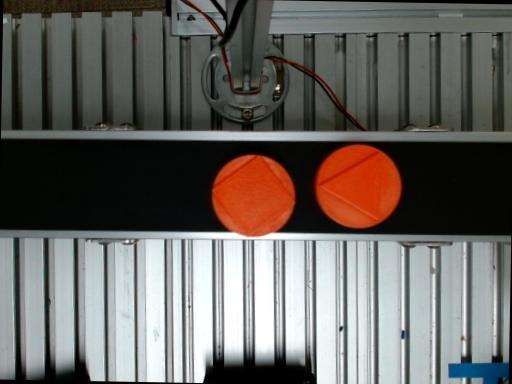Not_Square: (317, 150, 380, 221)
Orange_Waper: (315, 145, 402, 228), (212, 155, 295, 236)
Square: (212, 154, 295, 237)
